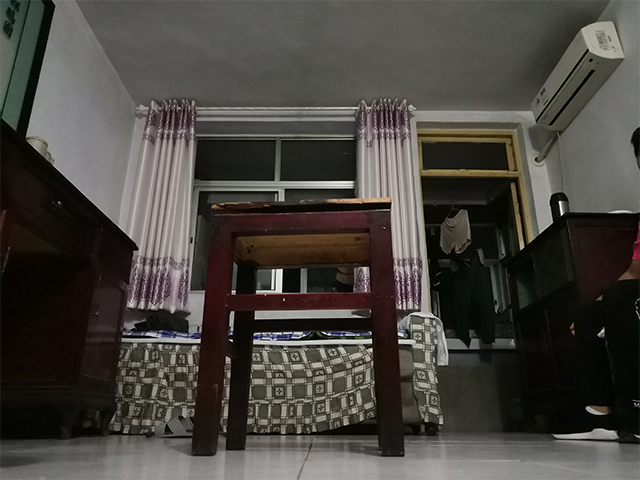bed: (110, 304, 452, 438)
cabinet: (1, 115, 144, 441), (502, 208, 640, 436)
curtain: (129, 97, 199, 314), (367, 97, 426, 314)
stool: (188, 195, 407, 459)
